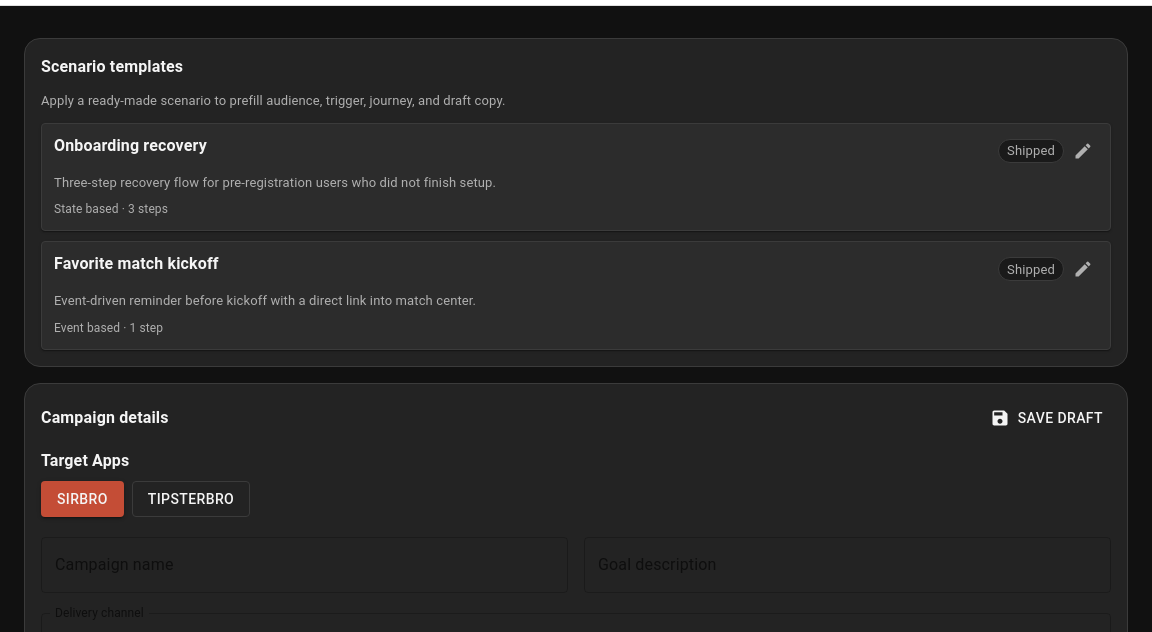
Test: CampaignEditorPage › applies a scenario template into the current builder draft
The image size is (1152, 632).
Expected: the text "Scenario templates" is shown, [41,55,183,79]
Click the text "Onboarding recovery" at (130, 146), box [54,136,207,156]
(page scrolled)
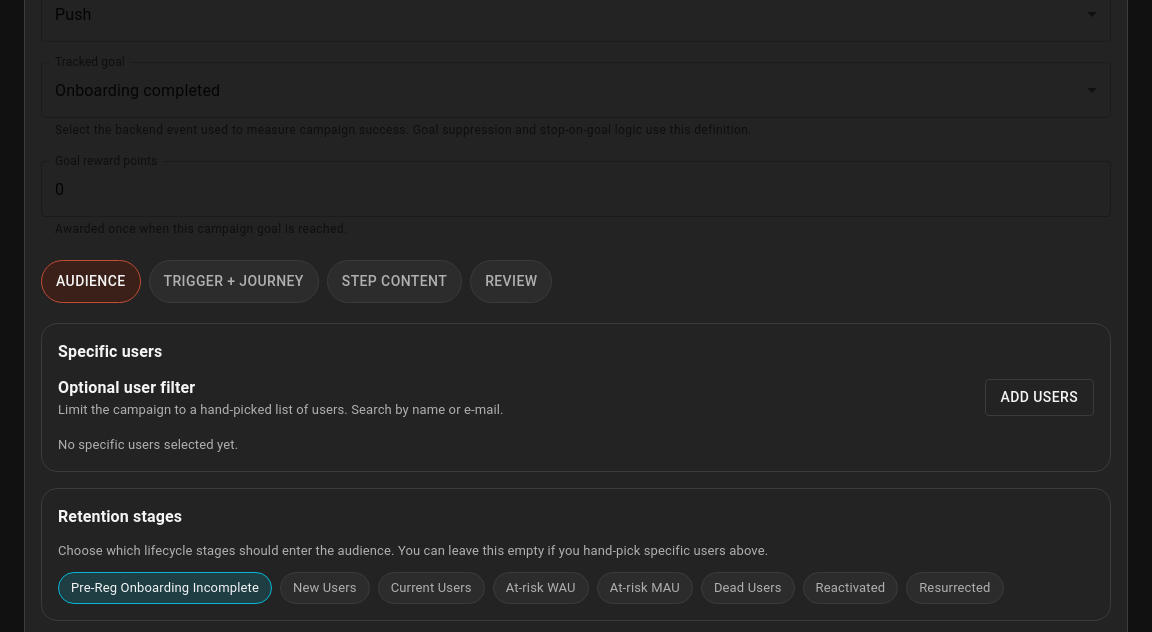
Now the button "Pre-Reg Onboarding Incomplete" is pressed, box [58,572,272,604]
Now the button "New Users" is not pressed, box [280,572,370,604]
Click the button "Trigger + Journey" at (234, 281), box [149,260,319,302]
(page scrolled)
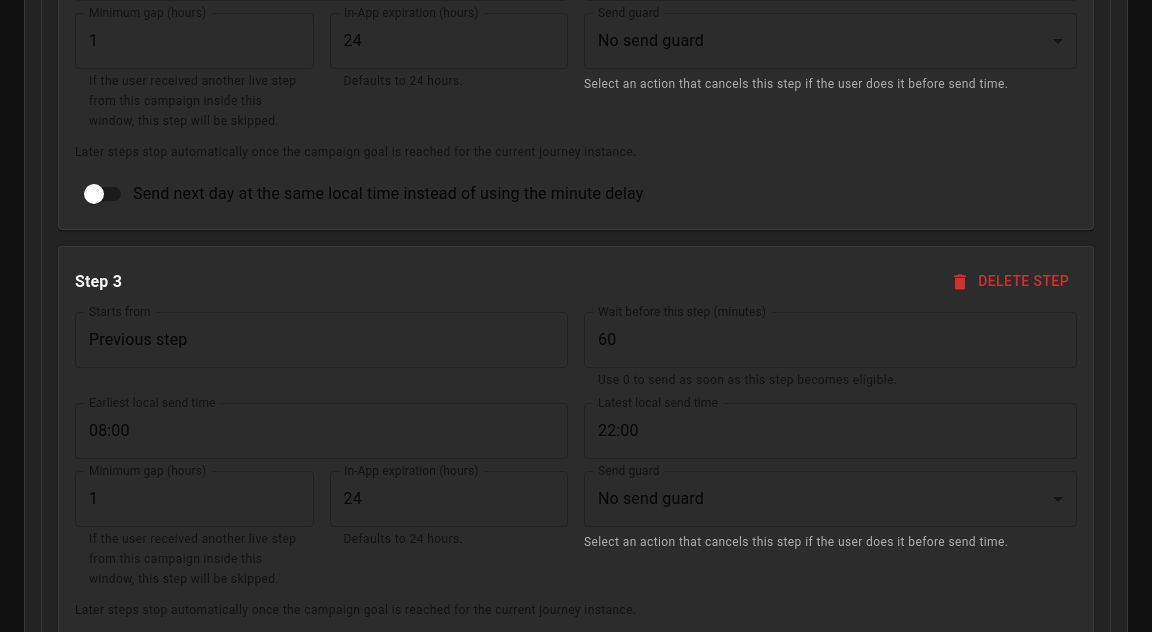
Now the text "Step 3" is shown, box [75,270,122,294]
